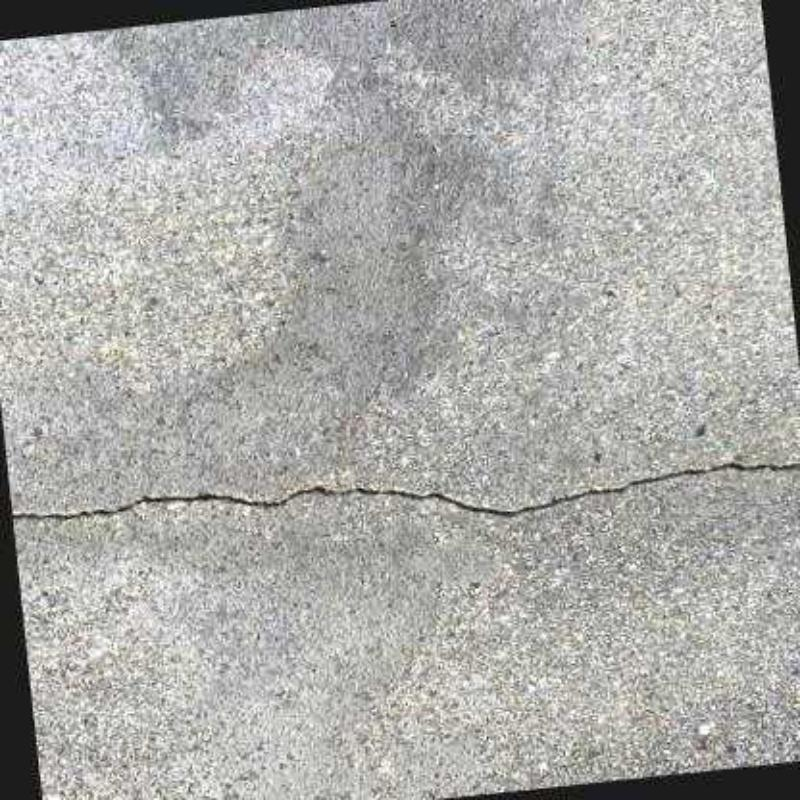pothole: (12, 462, 800, 520)
